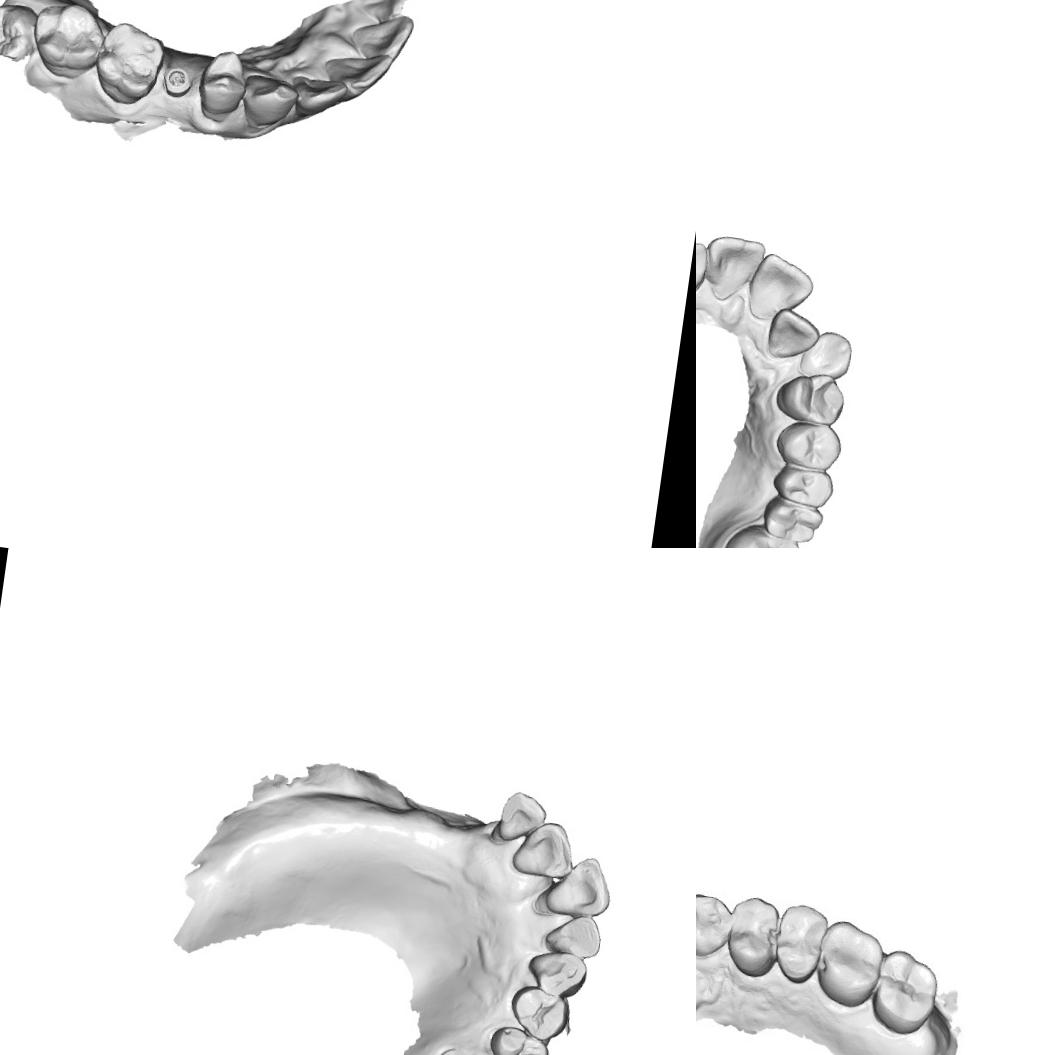canine: (238, 71, 300, 132), (795, 325, 856, 384), (524, 947, 589, 1002), (696, 889, 736, 960)
implant: (160, 64, 195, 100)
incisor: (743, 248, 819, 329), (542, 850, 616, 921), (698, 231, 768, 305), (510, 816, 580, 882), (321, 45, 396, 96), (348, 8, 416, 64), (763, 303, 824, 364), (541, 910, 605, 962), (495, 788, 550, 848), (288, 73, 349, 123), (696, 236, 711, 298)
molar: (90, 18, 168, 109), (865, 946, 941, 1037), (811, 919, 886, 1011), (26, 0, 109, 83), (760, 495, 828, 547), (770, 460, 838, 510), (715, 516, 809, 548), (0, 0, 41, 63)
premolar: (723, 892, 783, 980), (771, 898, 828, 986), (773, 366, 850, 430), (194, 46, 252, 119), (772, 416, 846, 473), (506, 982, 574, 1044), (485, 1023, 554, 1055)
